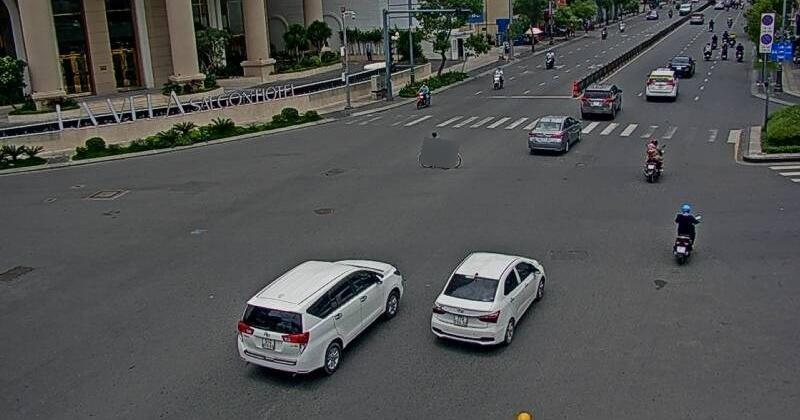xe dap: (418, 132, 462, 168)
xe hoi: (235, 252, 408, 385), (424, 248, 547, 353), (526, 114, 581, 154), (579, 83, 621, 118), (644, 67, 679, 99)
xe may: (671, 202, 699, 265), (643, 140, 663, 184)
